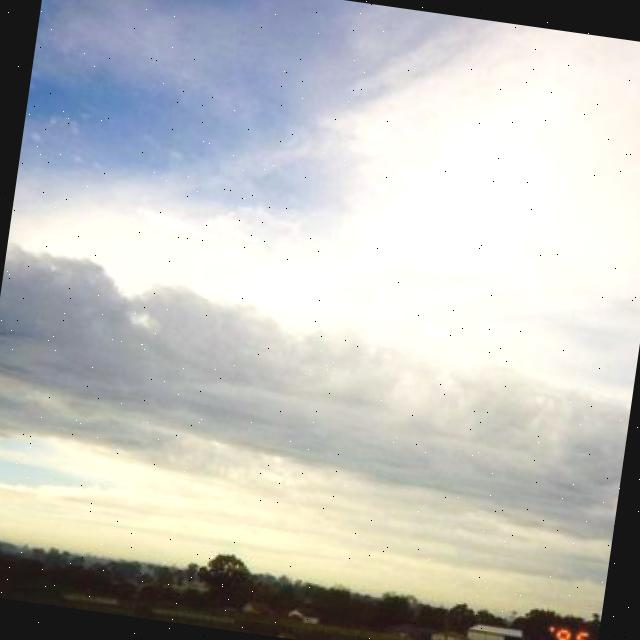Cs: (1, 62, 640, 547)
